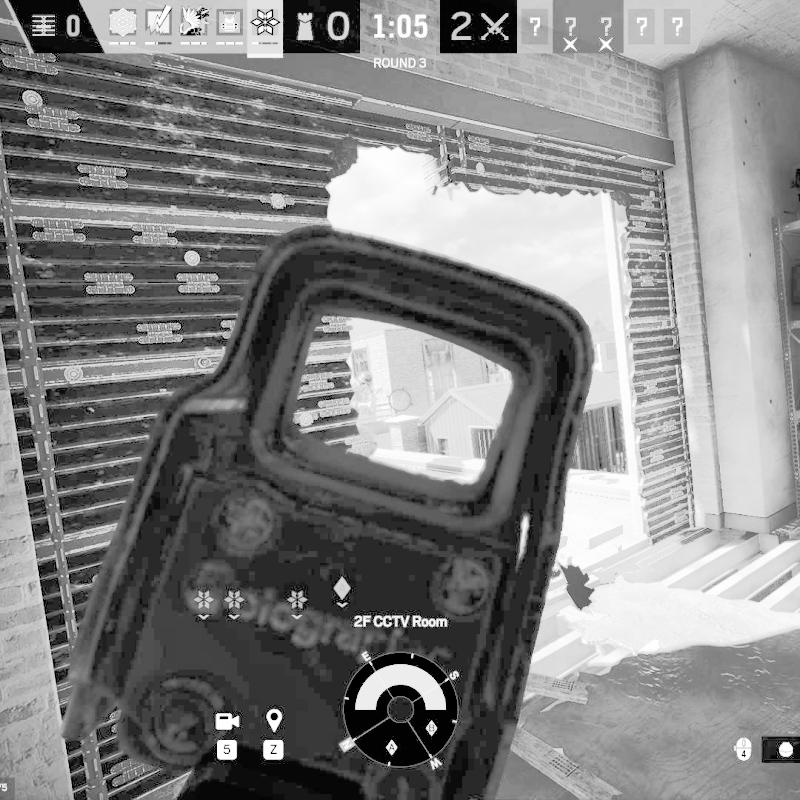Character: (351, 369, 380, 433)
Head: (358, 371, 373, 390)
